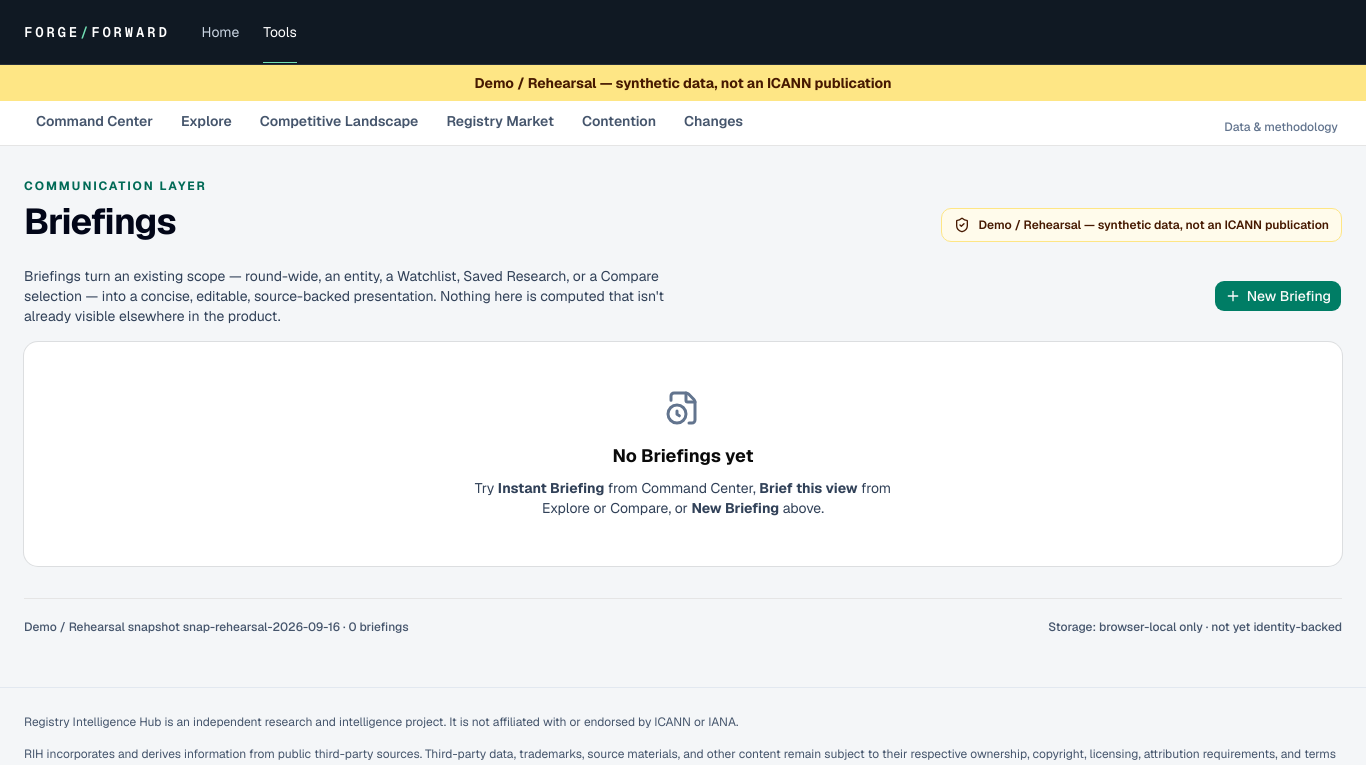
New Briefing wizard — portal layering, cancel, Escape, and Back (contained UX correction) › Escape closes an open dropdown without canceling the wizard, and only cancels the wizard once no dropdown is open
Click the button "New Briefing" at (1278, 296), box [1214,280,1342,312]
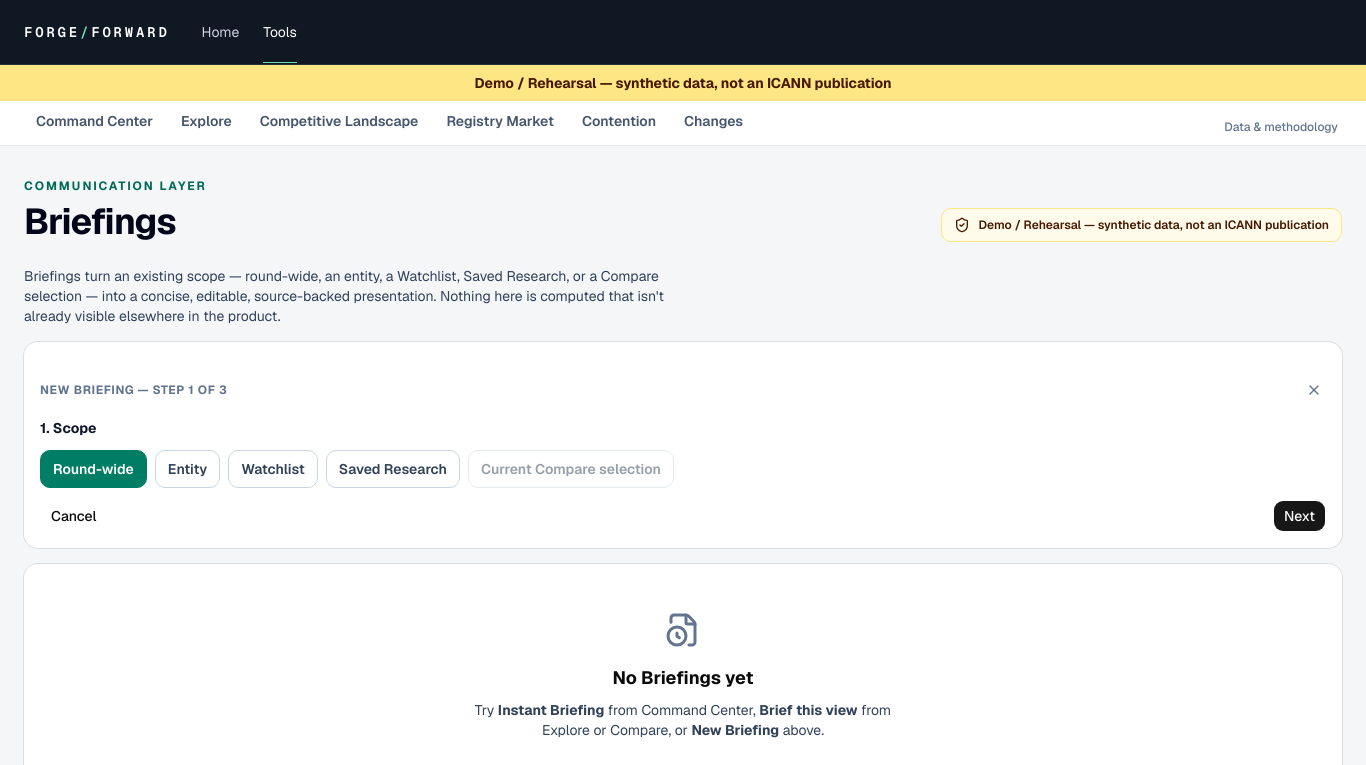
Click the button "Entity" at (188, 468), box [155,450,220,488]
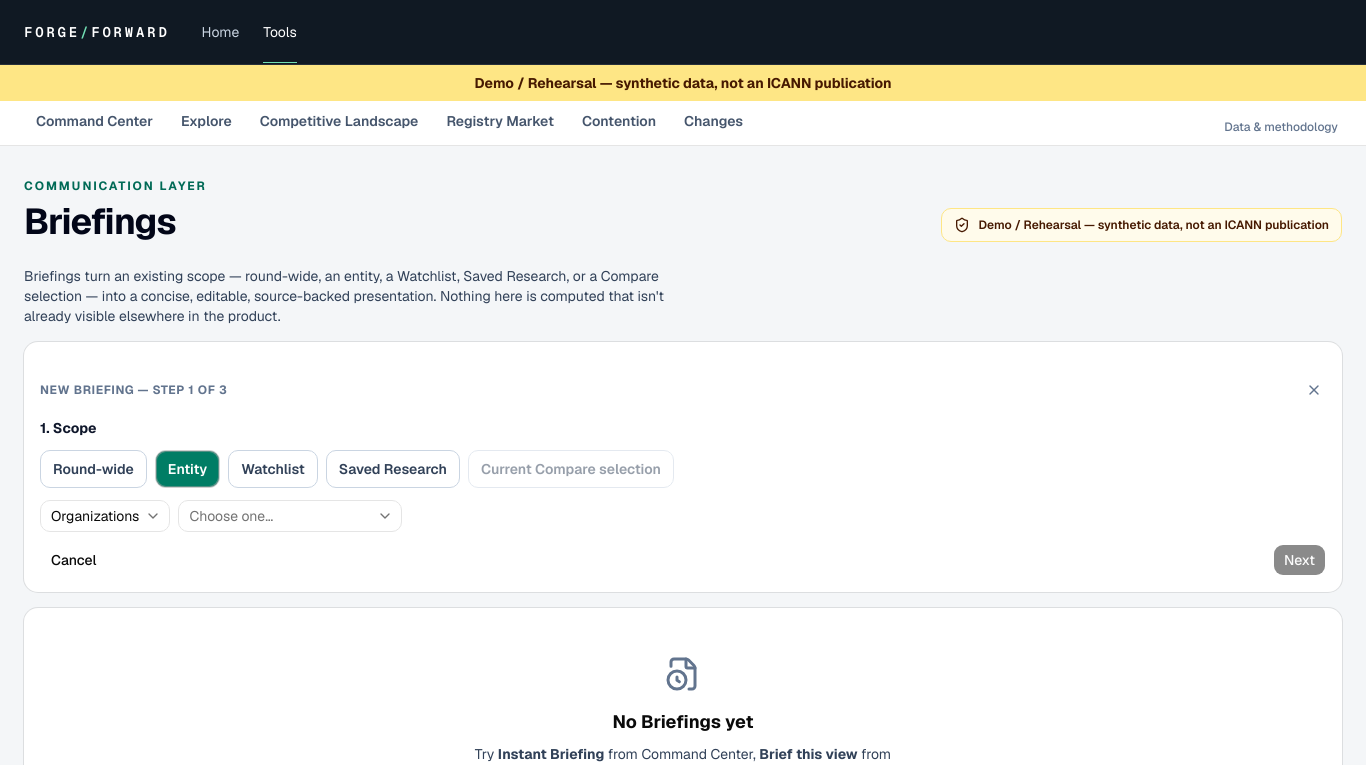
Click the dropdown named "Entity type" at (105, 516), box [40,500,170,532]
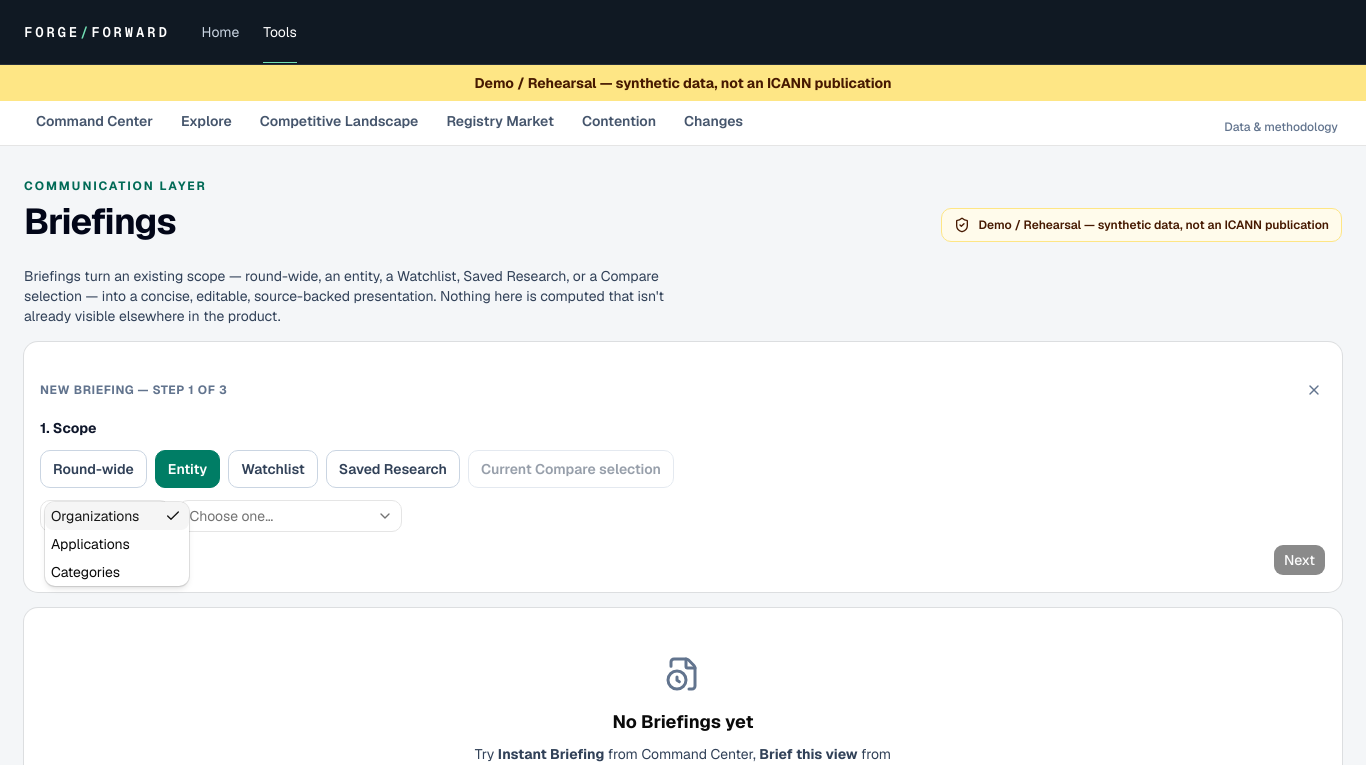
Check: the option "Organizations" is shown, box [45,502,189,530]
Press Escape
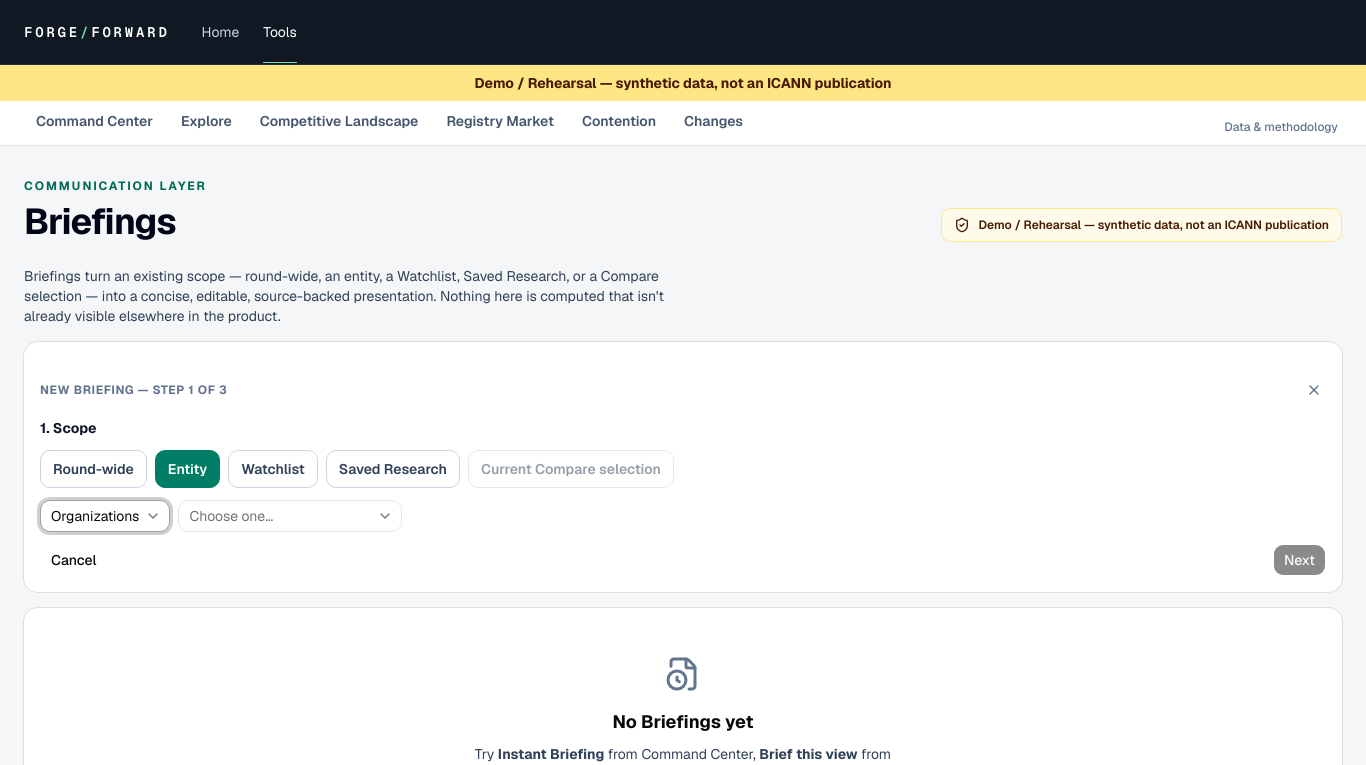
Check: the text "New Briefing — step 1 of 3" is shown, box [40,382,227,398]
Check: no options are shown
Press Escape
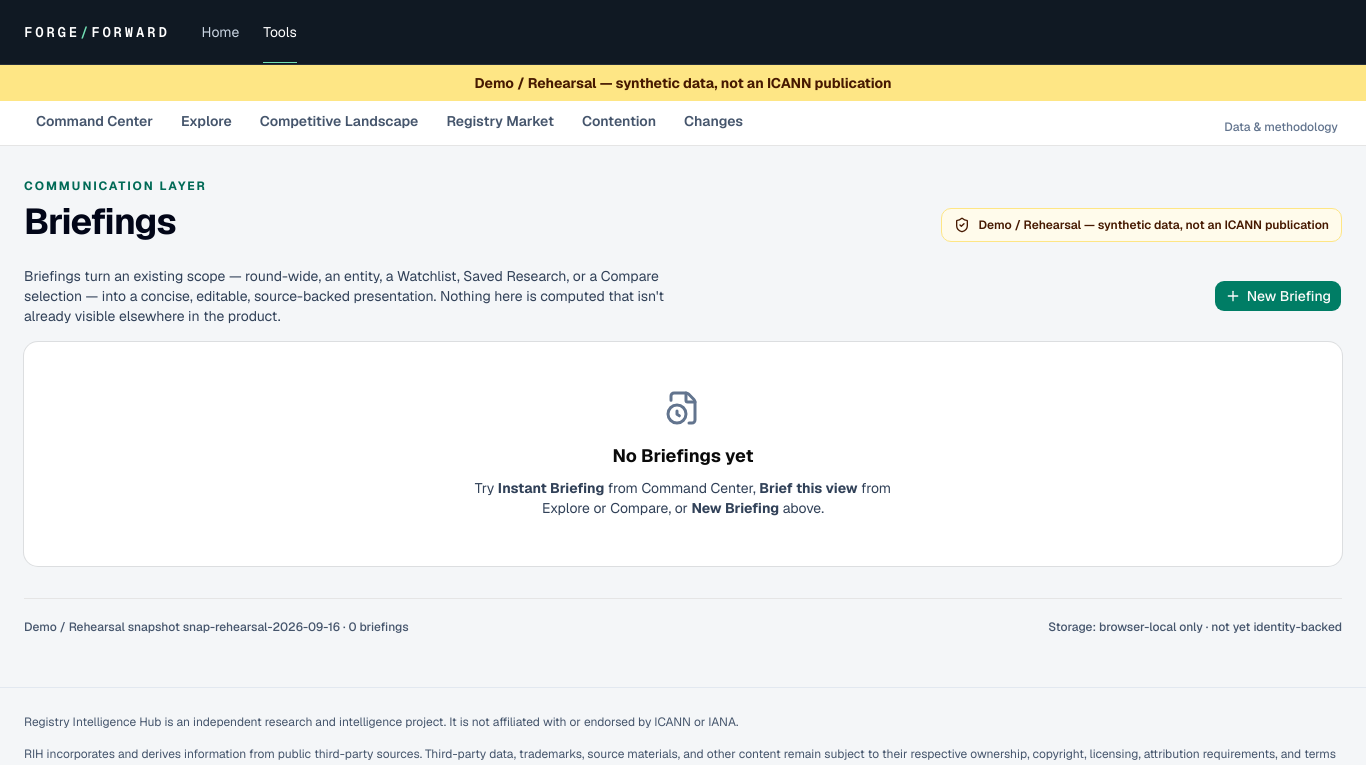
Check: the text "New Briefing — step" is gone
